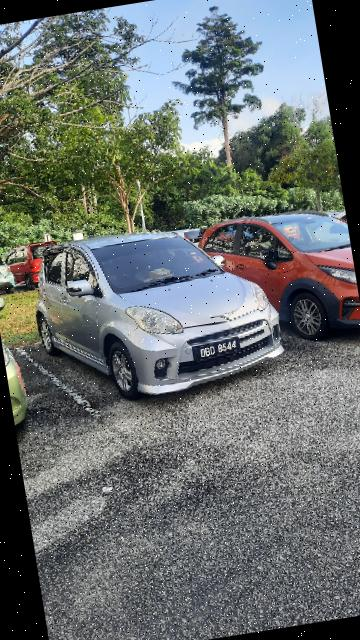License_Plate: (191, 335, 246, 362)
car: (25, 208, 294, 413), (194, 193, 360, 353)
